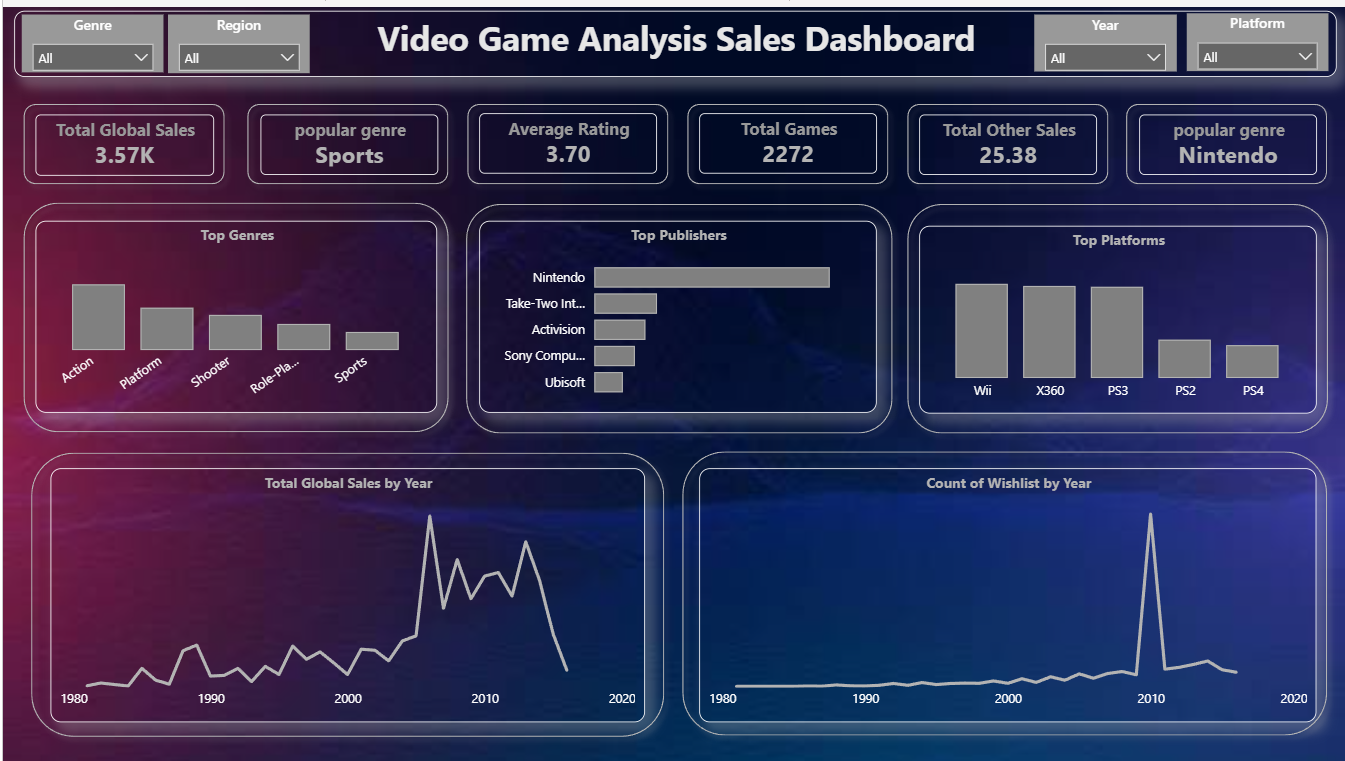

What the dashboard file says about the page in this screenshot:
{"tool":"powerbi","page":{"name":"Page 1","canvas":[1280,720],"ordinal":0},"visuals":[{"type":"textbox","title":"Video Game Analysis Sales Dashboard","box":[11,4.1,1261.6,63],"z":0},{"type":"slicer","title":"Platform","fields":{"Values":["merged_video_game_data.Platform"]},"box":[1129,6.5,135,55],"z":1000},{"type":"slicer","title":"Year","fields":{"Values":["merged_video_game_data.Year"]},"box":[983.6,6.8,135.6,54.8],"z":2000},{"type":"slicer","title":"Genre","fields":{"Values":["merged_video_game_data.Genre"]},"box":[17.5,7,135.5,55],"z":3000},{"type":"slicer","title":"Region","fields":{"Values":["Table.Region"]},"box":[158,7,135.5,56],"z":4000},{"type":"card","title":"Total Global Sales","fields":{"Values":["merged_video_game_data.Total Global Sales"]},"box":[31,102,170,58.5],"z":5000},{"type":"shape","box":[1063,83.6,209.6,94.5],"z":6000},{"type":"shape","box":[853.4,83.6,209.6,94.5],"z":7000},{"type":"shape","box":[643.8,83.6,209.6,94.5],"z":8000},{"type":"shape","box":[434.2,83.6,209.6,94.5],"z":9000},{"type":"shape","box":[224.7,83.6,209.6,94.5],"z":10000},{"type":"shape","box":[11,83.6,209.6,94.5],"z":11000},{"type":"card","title":"popular genre","fields":{"Values":["Min(merged_video_game_data.Genre)"]},"box":[245.2,102.7,169.9,57.5],"z":12000},{"type":"card","title":"Average Rating","fields":{"Values":["merged_video_game_data.Average Rating"]},"box":[454.8,101.4,169.9,57.5],"z":13000},{"type":"card","title":"Total Games","fields":{"Values":["merged_video_game_data.Total Games"]},"box":[664.4,101.4,169.9,57.5],"z":14000},{"type":"card","title":"Total Other Sales","fields":{"Values":["merged_video_game_data.Total Other Sales"]},"box":[874,102.7,169.9,57.5],"z":15000},{"type":"card","title":"popular genre","fields":{"Values":["Min(merged_video_game_data.Publisher)"]},"box":[1083.6,102.7,169.9,57.5],"z":16000},{"type":"shape","box":[11,178.1,423.3,237],"z":17000},{"type":"columnChart","title":"Top Genres","fields":{"Category":["merged_video_game_data.Genre"],"Y":["Sum(merged_video_game_data.Global_Sales)"]},"box":[31.5,204.1,383.6,183.6],"z":18000},{"type":"barChart","title":"Top Publishers ","fields":{"Category":["merged_video_game_data.Publisher"],"Y":["Sum(merged_video_game_data.Global_Sales)"]},"box":[454.8,204.1,379.5,183.6],"z":19000},{"type":"shape","box":[853.4,179.5,419.2,237],"z":20000},{"type":"shape","box":[432.9,179.5,424.7,237],"z":21000},{"type":"columnChart","title":"Top Platforms","fields":{"Category":["merged_video_game_data.Platform"],"Y":["merged_video_game_data.Total Global Sales"]},"box":[874,208.2,379.5,179.5],"z":22000},{"type":"shape","box":[17.8,416.4,621.9,289],"z":23000},{"type":"lineChart","fields":{"Category":["merged_video_game_data.Year"],"Y":["merged_video_game_data.Total Global Sales"]},"box":[45.2,439.7,567.1,242.5],"z":24000},{"type":"shape","box":[639.5,415,633,289],"z":25000},{"type":"lineChart","fields":{"Category":["merged_video_game_data.Year"],"Y":["CountNonNull(merged_video_game_data.Wishlist)"]},"box":[664.4,439.7,589,242.5],"z":26000}]}

Visuals, with their boxes in screenshot pixels (x1, y1, x2, y2), scaled from the page's 1280x720 canvas onto the 1345x761 screenshot:
"Video Game Analysis Sales Dashboard" textbox: BBox(12, 4, 1337, 71)
"Platform" slicer: BBox(1186, 7, 1328, 65)
"Year" slicer: BBox(1034, 7, 1176, 65)
"Genre" slicer: BBox(18, 7, 161, 66)
"Region" slicer: BBox(166, 7, 308, 67)
"Total Global Sales" card: BBox(33, 108, 211, 170)
shape: BBox(1117, 88, 1337, 188)
shape: BBox(897, 88, 1117, 188)
shape: BBox(676, 88, 897, 188)
shape: BBox(456, 88, 676, 188)
shape: BBox(236, 88, 456, 188)
shape: BBox(12, 88, 232, 188)
"popular genre" card: BBox(258, 109, 436, 169)
"Average Rating" card: BBox(478, 107, 656, 168)
"Total Games" card: BBox(698, 107, 877, 168)
"Total Other Sales" card: BBox(918, 109, 1097, 169)
"popular genre" card: BBox(1139, 109, 1317, 169)
shape: BBox(12, 188, 456, 439)
"Top Genres" columnChart: BBox(33, 216, 436, 410)
"Top Publishers " barChart: BBox(478, 216, 877, 410)
shape: BBox(897, 190, 1337, 440)
shape: BBox(455, 190, 901, 440)
"Top Platforms" columnChart: BBox(918, 220, 1317, 410)
shape: BBox(19, 440, 672, 746)
lineChart - merged_video_game_data.Year x merged_video_game_data.Total Global Sales: BBox(47, 465, 643, 721)
shape: BBox(672, 439, 1337, 744)
lineChart - merged_video_game_data.Year x CountNonNull(merged_video_game_data.Wishlist): BBox(698, 465, 1317, 721)
